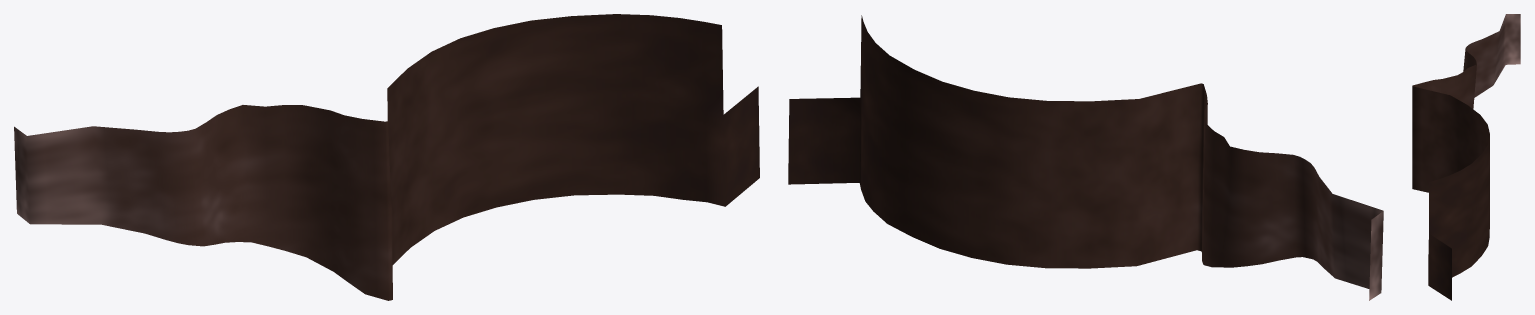
The model's file is Wall04.obj.
3 views of the same model, side by side, from view 1: azimuth 30°, elevation 25°; view 2: azimuth 150°, elevation 25°; view 3: azimuth 270°, elevation 25° (orthographic). The views are drawn at different scales.
Visible parts, largest first — view 1: WallLeft2_Plane.008; view 2: WallLeft2_Plane.008; view 3: WallLeft2_Plane.008.
Boxes of the visible parts, x1,y1,x2,y2 form: WallLeft2_Plane.008: (14, 14, 759, 300); WallLeft2_Plane.008: (788, 15, 1383, 300); WallLeft2_Plane.008: (1412, 14, 1520, 300).
Size of the model in its own units: 29.65 by 7.54 by 7.21.
Materials: 1 (1 with a texture image).
